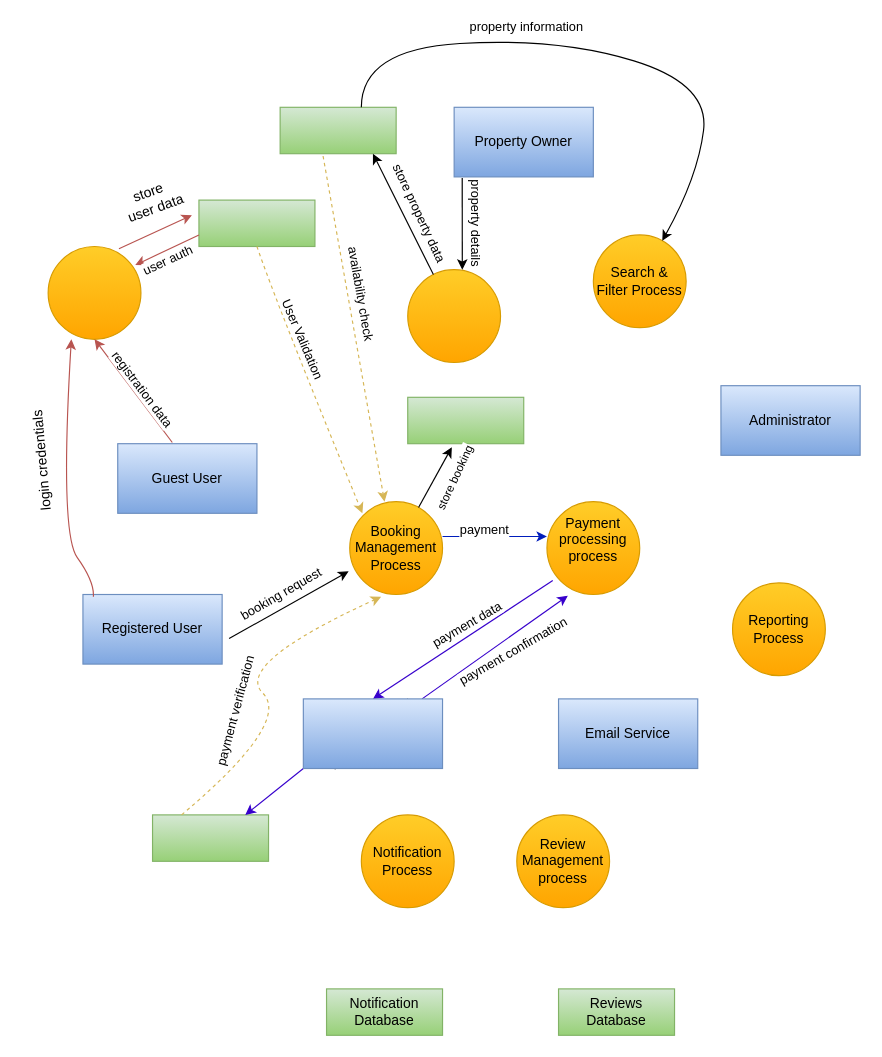
This 882x1057 diagram has some shape labels left out. The shapes that lost their labels are listed below. From the top down, each one's box as (x1, y1, x2, y2) in pixels, then its label:
(279, 106, 396, 154): Property Database
(198, 199, 315, 246): User Database
(47, 245, 141, 339): User Management Process
(407, 269, 501, 362): Property management Process
(407, 396, 524, 444): Booking Database
(302, 698, 443, 768): Payment Provider
(151, 814, 269, 861): Payment Database
